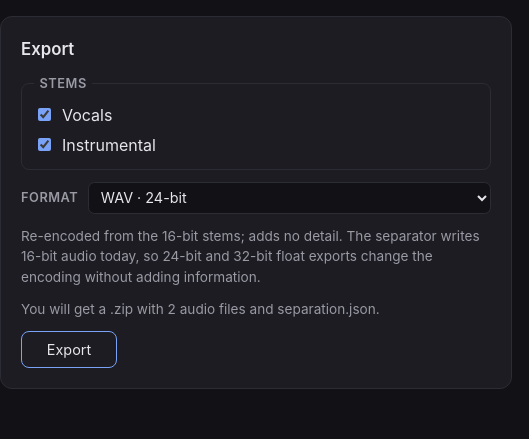
it: ExportPanel download › downloads once for a double click
Double-click the button "Export": x=69, y=350 x1=21 y1=331 x2=117 y2=368
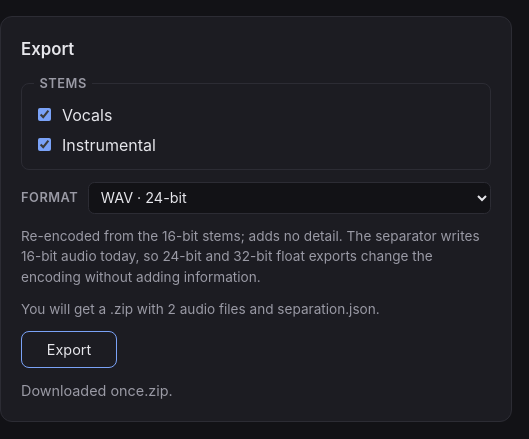
Now the text "Downloaded once.zip." is shown, box x1=21 y1=382 x2=173 y2=399
